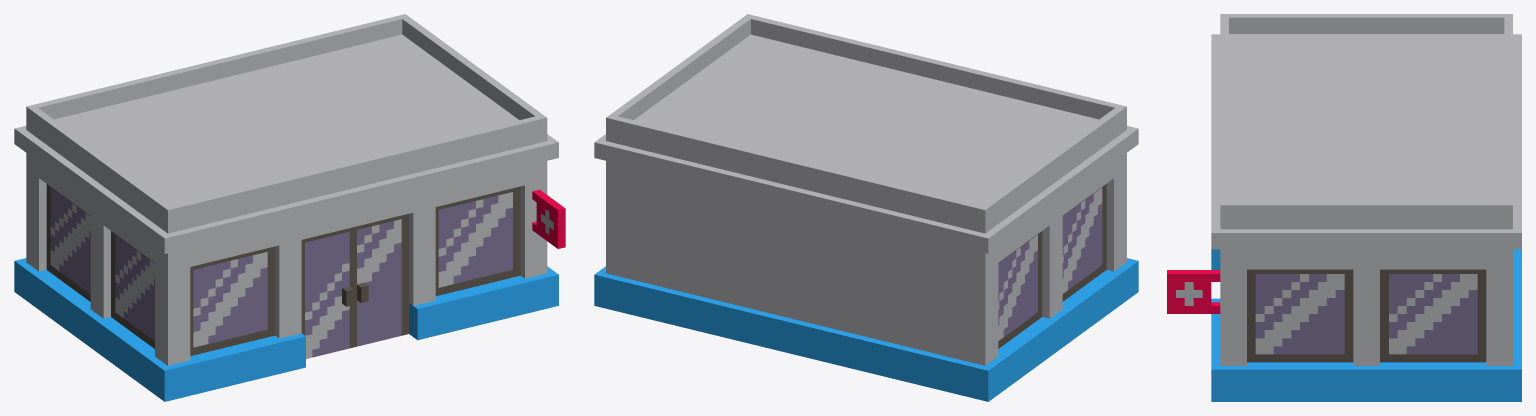
File: pharmacy_b.obj
3 renders of one model, left to right at view 1: azimuth 30°, elevation 25°; view 2: azimuth 150°, elevation 25°; view 3: azimuth 270°, elevation 25°, orthographic. The views are drawn at different scales.
Size of the model in its own units: 5.3 by 2.4 by 4.
Materials: 1 (1 with a texture image).
